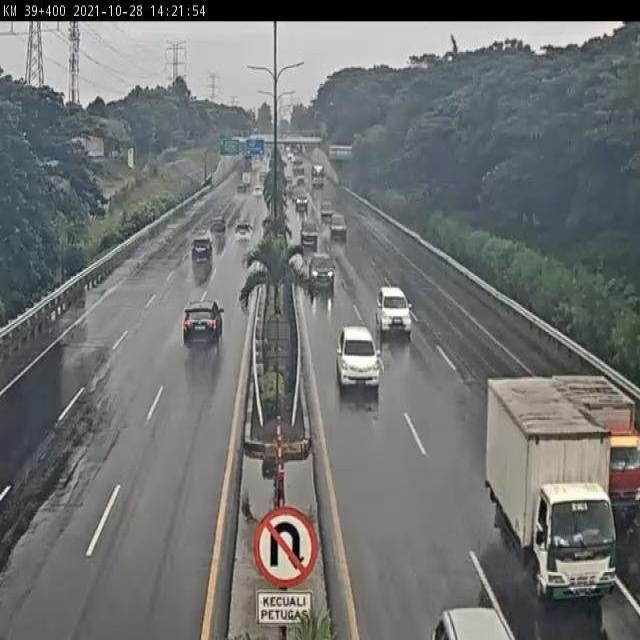car: (337, 325, 380, 388), (184, 300, 223, 349), (374, 286, 412, 334), (307, 251, 335, 289), (189, 238, 214, 266), (231, 219, 254, 245), (208, 215, 227, 236)
truck-m-: (484, 377, 616, 603)
